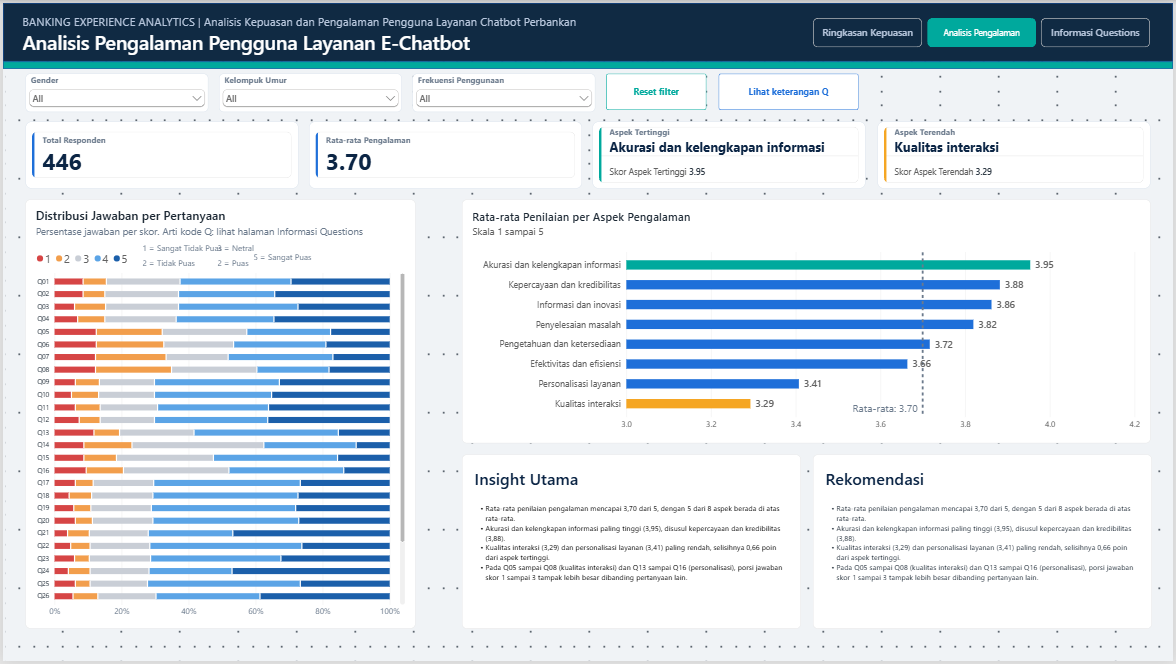

The page's visual inventory and layout, read from the dashboard file:
{"tool":"powerbi","page":{"name":"Analisis Pengalaman","canvas":[1920,1080],"ordinal":1},"visuals":[{"type":"hundredPercentStackedBarChart","title":"Distribusi Jawaban per Pertanyaan","fields":{"Category":["distribusi_pengalaman.Indikator"],"Series":["distribusi_pengalaman.Skor"],"Y":["distribusi_pengalaman.Jumlah Jawaban Pengalaman"]},"box":[36,322,640,704],"z":0,"group":"g2"},{"type":"clusteredBarChart","title":"Rata-rata Penilaian per Aspek Pengalaman","fields":{"Category":["Dim Aspek Pengalaman.Aspek"],"Y":["Dim Aspek Pengalaman.Nilai Aspek Pengalaman"]},"box":[754,322,1130,400],"z":0},{"type":"textbox","box":[228,386,130.9,58.7],"z":0,"group":"g1"},{"type":"slicer","fields":{"Values":["survey_responden.gender"]},"box":[36,116,300,63],"z":1000},{"type":"group","id":"g1","title":"Group 1","box":[228,386,320,64],"z":1000,"group":"g2"},{"type":"textbox","box":[351.6,386,130.9,58.7],"z":1000,"group":"g1"},{"type":"slicer","fields":{"Values":["survey_responden.kelompuk_umur"]},"box":[354,116,300,63],"z":2000},{"type":"textbox","box":[409.8,400.7,130.9,29.3],"z":2000,"group":"g1"},{"type":"slicer","fields":{"Values":["survey_responden.frekuensi_penggunaan"]},"box":[672,116,300,63],"z":3000},{"type":"shape","title":"hdr_latar","box":[0,0,1920,96],"z":4000},{"type":"textbox","box":[32,16,1312,96],"z":5000},{"type":"actionButton","box":[990,116,165,60],"z":6000},{"type":"group","id":"g2","title":"Group 2","box":[36,322,640,704],"z":7000},{"type":"cardVisual","fields":{"Data":["survey_responden.Rata-rata Pengalaman"]},"box":[502,194,448,110],"z":8000},{"type":"cardVisual","fields":{"Data":["survey_responden.Aspek Tertinggi"]},"box":[968,194,448,110],"z":9000},{"type":"cardVisual","fields":{"Data":["survey_responden.Aspek Terendah"]},"box":[1434,194,448,110],"z":10000},{"type":"cardVisual","fields":{"Data":["survey_responden.Total Responden"]},"box":[36,194,448,110],"z":11000},{"type":"shape","title":"hdr_garis","box":[0,96,1920,12],"z":12000},{"type":"textbox","box":[754,740,556,286],"z":13000},{"type":"textbox","box":[1328,740,556,286],"z":14000},{"type":"pageNavigator","box":[1330,24,554,48],"z":15000},{"type":"actionButton","box":[1173,116,230,60],"z":16000}]}

Visuals, with their boxes in screenshot pixels (x1, y1, x2, y2), scaled from the page's 1920x1080 canvas onto the 1176x664 screenshot:
"Distribusi Jawaban per Pertanyaan" hundredPercentStackedBarChart: locate(22, 198, 414, 631)
"Rata-rata Penilaian per Aspek Pengalaman" clusteredBarChart: locate(462, 198, 1154, 444)
textbox: locate(140, 237, 220, 273)
slicer - survey_responden.gender: locate(22, 71, 206, 110)
"Group 1" group: locate(140, 237, 336, 277)
textbox: locate(215, 237, 296, 273)
slicer - survey_responden.kelompuk_umur: locate(217, 71, 401, 110)
textbox: locate(251, 246, 331, 264)
slicer - survey_responden.frekuensi_penggunaan: locate(412, 71, 595, 110)
"hdr_latar" shape: locate(0, 0, 1175, 59)
textbox: locate(20, 10, 823, 69)
actionButton: locate(606, 71, 707, 108)
"Group 2" group: locate(22, 198, 414, 631)
cardVisual - survey_responden.Rata-rata Pengalaman: locate(307, 119, 582, 187)
cardVisual - survey_responden.Aspek Tertinggi: locate(593, 119, 867, 187)
cardVisual - survey_responden.Aspek Terendah: locate(878, 119, 1153, 187)
cardVisual - survey_responden.Total Responden: locate(22, 119, 296, 187)
"hdr_garis" shape: locate(0, 59, 1175, 66)
textbox: locate(462, 455, 802, 631)
textbox: locate(813, 455, 1154, 631)
pageNavigator: locate(815, 15, 1154, 44)
actionButton: locate(718, 71, 859, 108)
